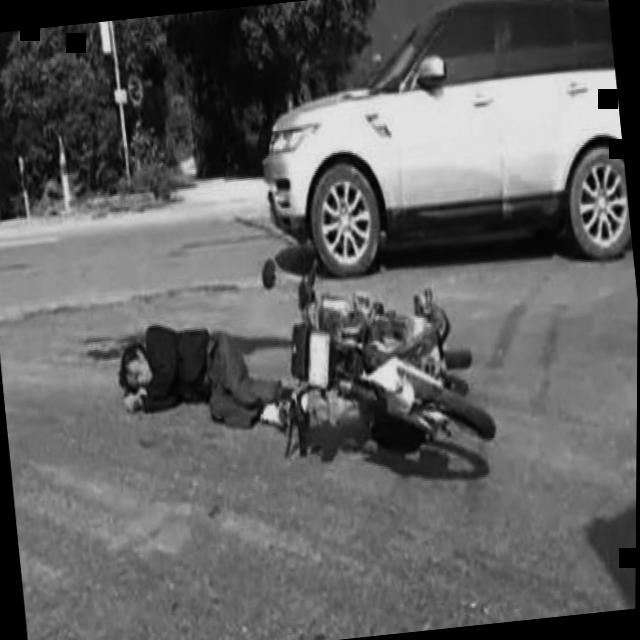Fall-Detected: (100, 299, 300, 442)
